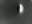person: (18, 4, 26, 16)
